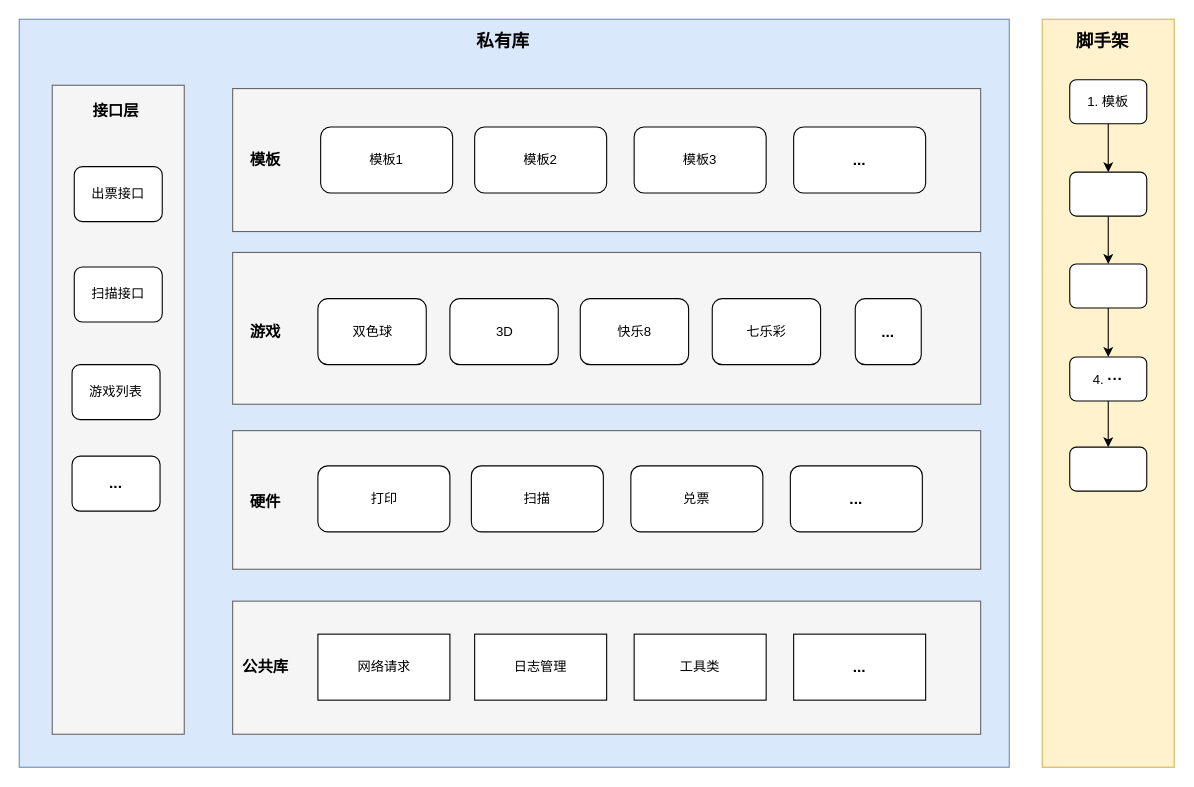
Some shapes in this 1194 by 787 pixel diagram are drawn without their labels. The centre of each missing label's shape, as x and y in pixels:
2. 游戏: the point at 1108,193
3. 设备: the point at 1108,285
apk: the point at 1108,468
